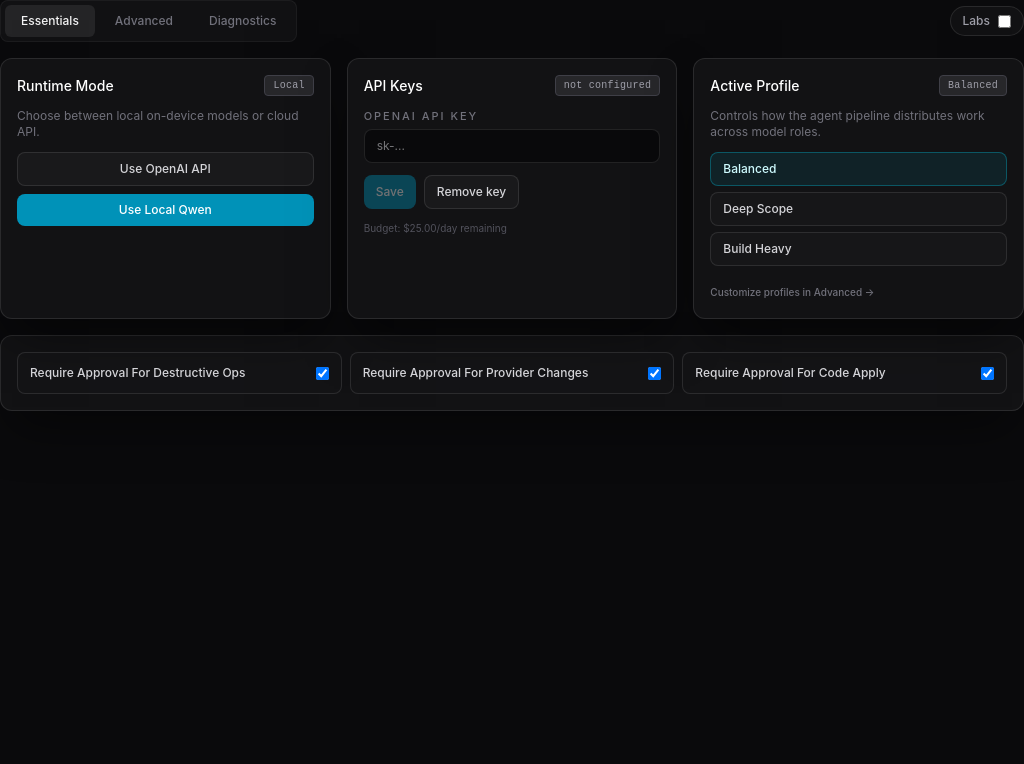
Test: SettingsControlView › reveals execution profiles when Advanced is opened
Step 1. Click the button "Advanced" → x=144, y=21, box [99, 5, 189, 37]
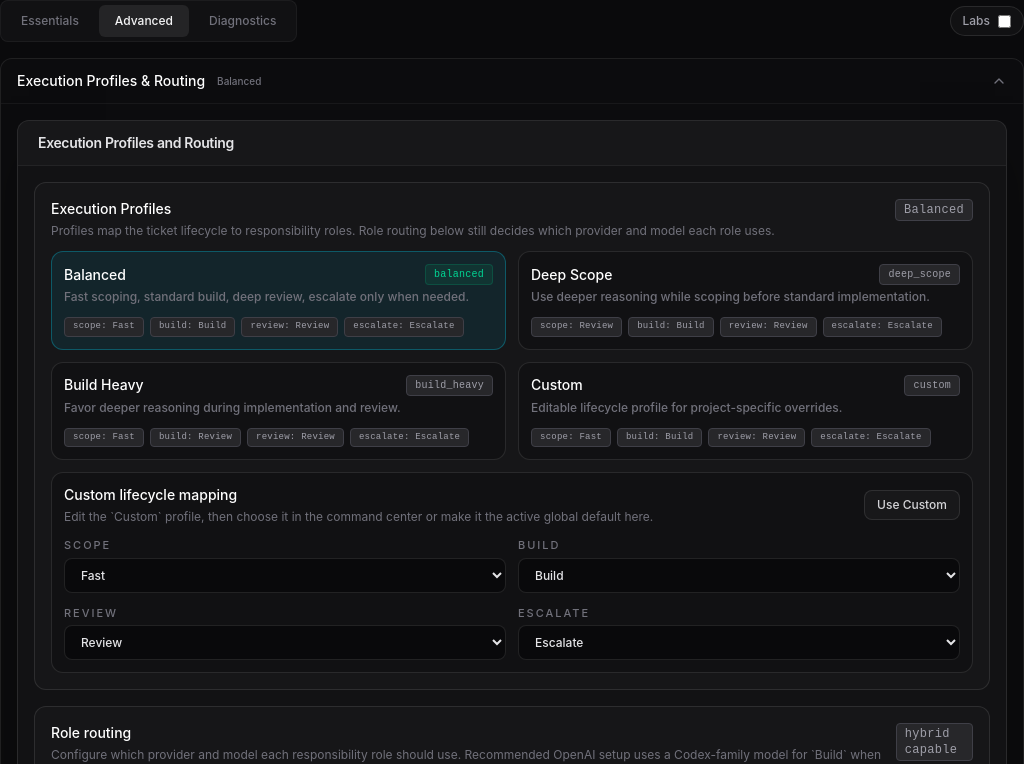
Now the text "Execution Profiles & Routing" is shown, box [17, 71, 205, 91]
Now the text "Execution Profiles" is shown, box [51, 200, 171, 217]
